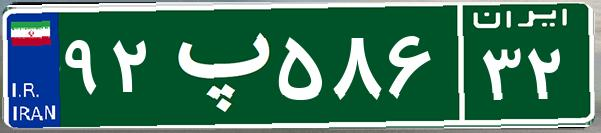2: (110, 28, 158, 105), (525, 38, 570, 115)
3: (475, 38, 525, 113)
5: (273, 28, 330, 110)
6: (385, 28, 445, 110)
8: (330, 28, 385, 110)
9: (57, 26, 110, 107)
پ: (158, 15, 273, 115)
